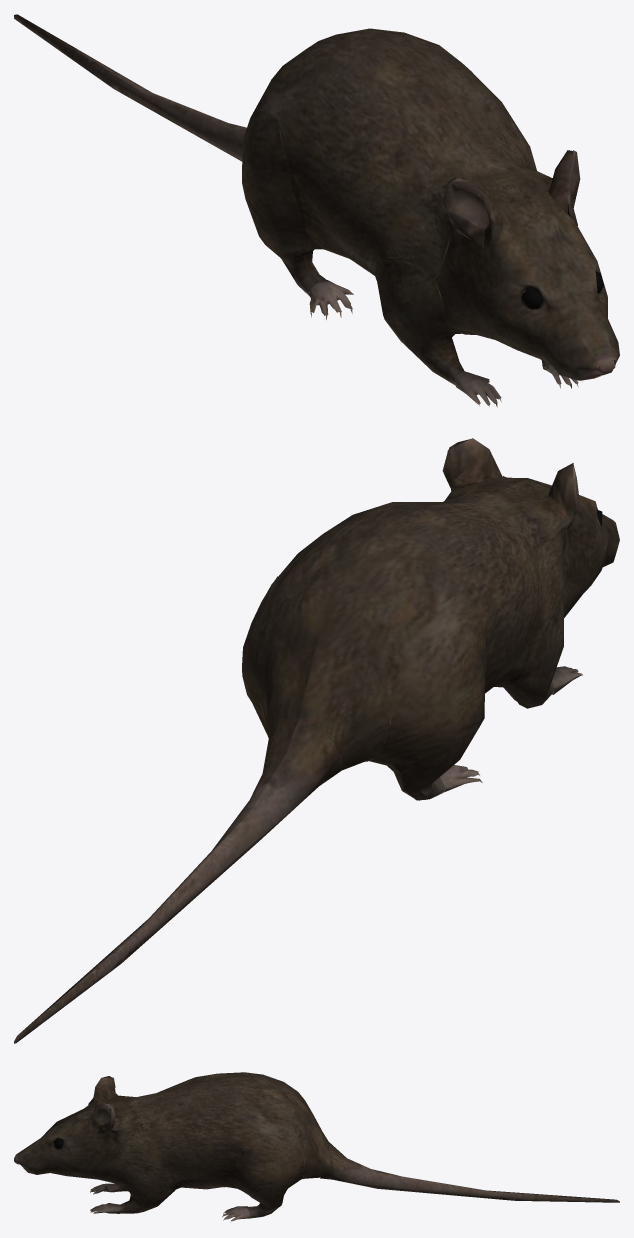
The model's file is street_rat.glb.
3 renders of one model, top to bottom at view 1: azimuth 30°, elevation 25°; view 2: azimuth 150°, elevation 25°; view 3: azimuth 270°, elevation 25°, orthographic. The views are drawn at different scales.
Visible parts, largest first — view 1: street_rat; view 2: street_rat; view 3: street_rat.
Boxes of the visible parts, x1,y1,x2,y2 form: street_rat: [14, 14, 619, 407]; street_rat: [14, 438, 619, 1043]; street_rat: [14, 1072, 619, 1222].
Bounding box in the file's own units: 0.032 × 0.0338 × 0.1483.
Materials: 1 (1 with a texture image).
